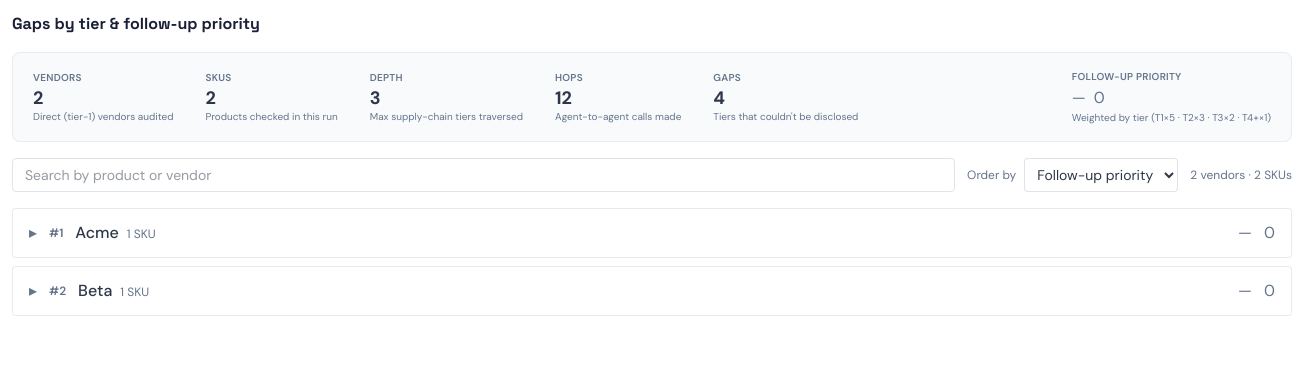
Test: TierGapGrid catalog descriptors › search matches name, brand, model and family (case-insensitive), not the description
Type "w-100" into the field labelled "Search by product or vendor" at (484, 174), box [12, 158, 955, 192]
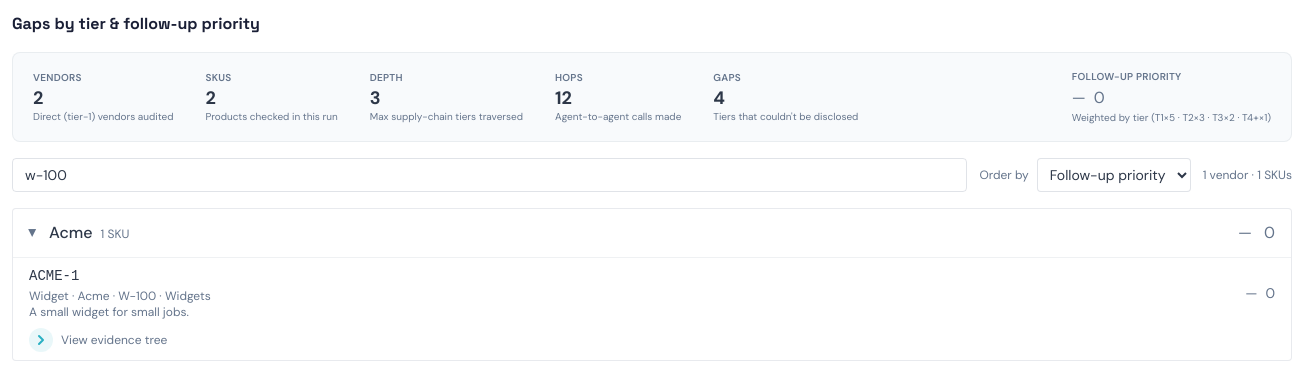
expect the text "BETA-1" is not shown: met
expect the text "ACME-1" is shown: met, box [29, 266, 79, 286]
Replace the text in the field named "Search by product or vendor" with "boltco" at (490, 174), box [12, 158, 968, 192]
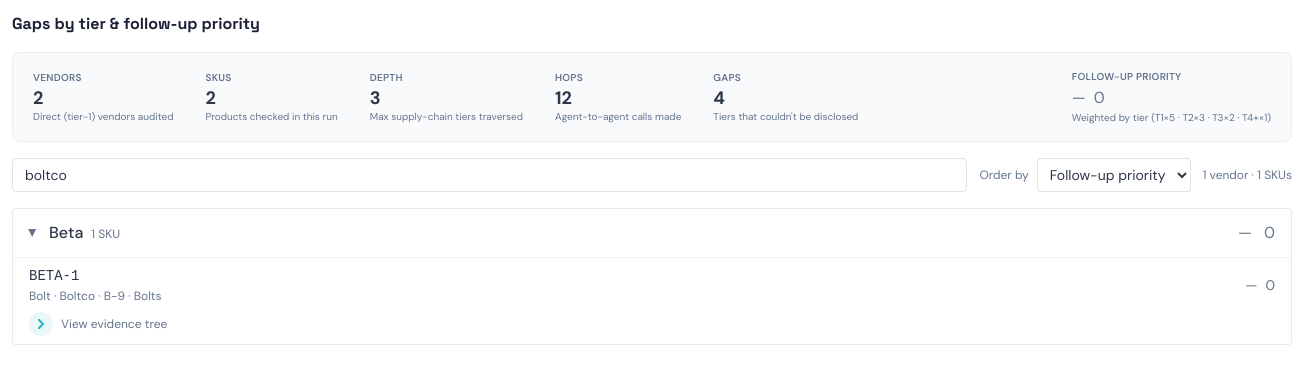
expect the text "BETA-1" is shown: met, box [29, 266, 79, 286]
expect the text "ACME-1" is gone: met
Replace the text in the field named "Search by product or vendor" with "widgets" at (490, 174), box [12, 158, 968, 192]
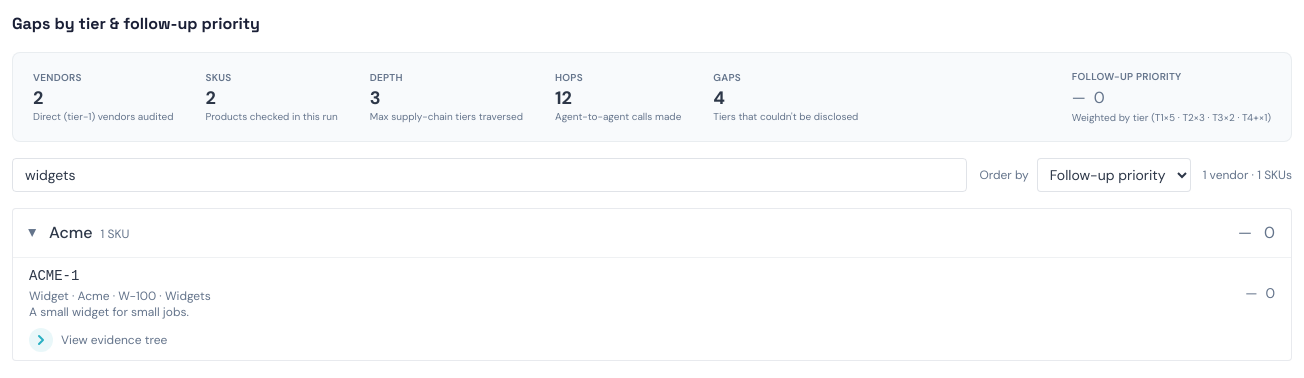
expect the text "ACME-1" is shown: met, box [29, 266, 79, 286]
expect the text "BETA-1" is gone: met
Replace the text in the field named "Search by product or vendor" with "bolt" at (490, 174), box [12, 158, 968, 192]
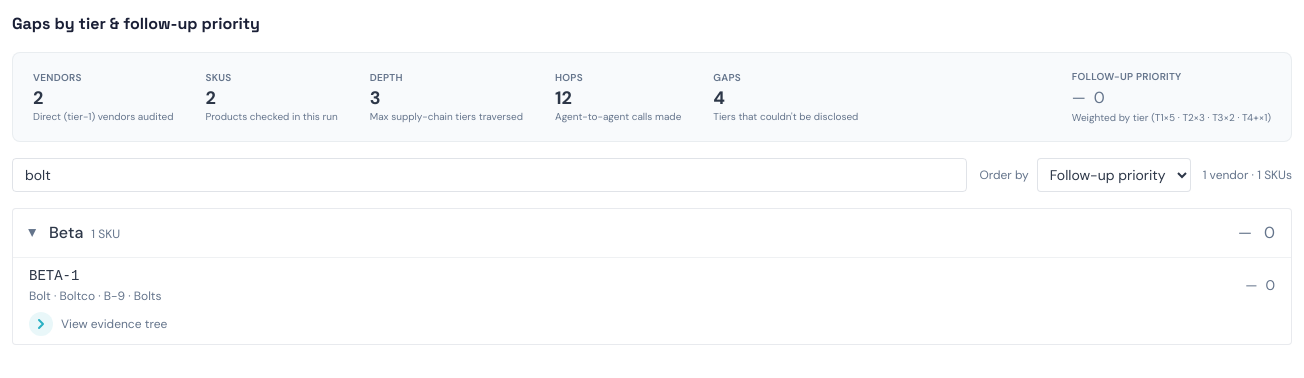
expect the text "BETA-1" is shown: met, box [29, 266, 79, 286]
expect the text "ACME-1" is gone: met
Replace the text in the field named "Search by product or vendor" with "small jobs" at (490, 174), box [12, 158, 968, 192]
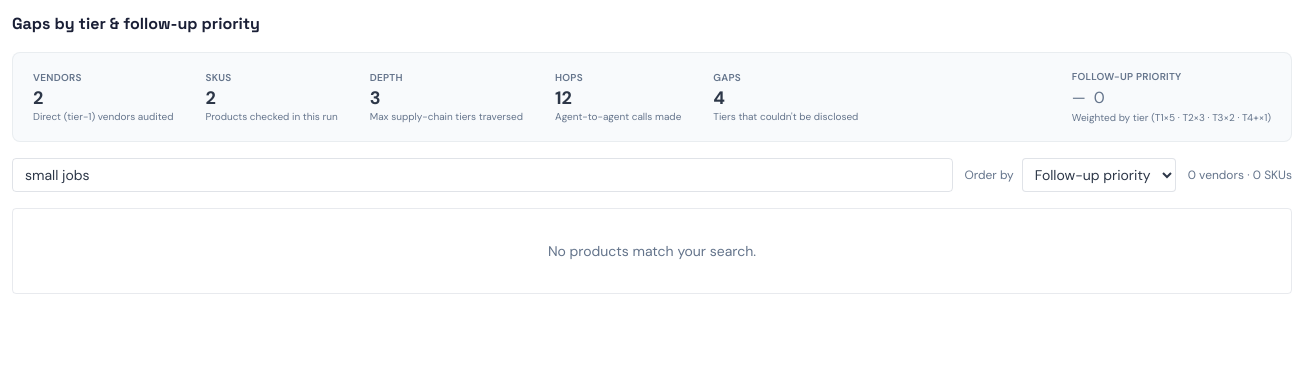
expect the text "No products match your search." is shown: met, box [12, 208, 1292, 294]
